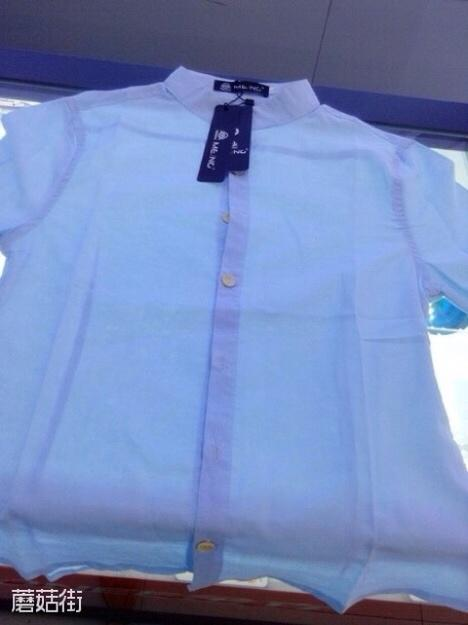C_shirt: (1, 64, 467, 615)
